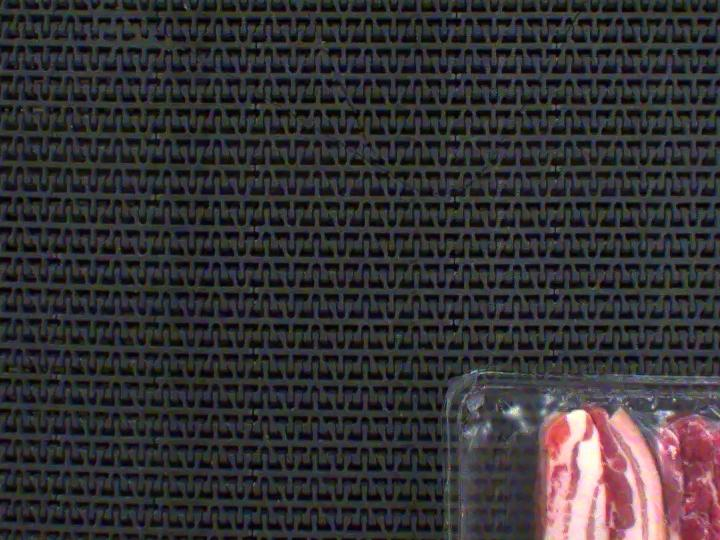unsealed: (503, 385, 720, 540)
